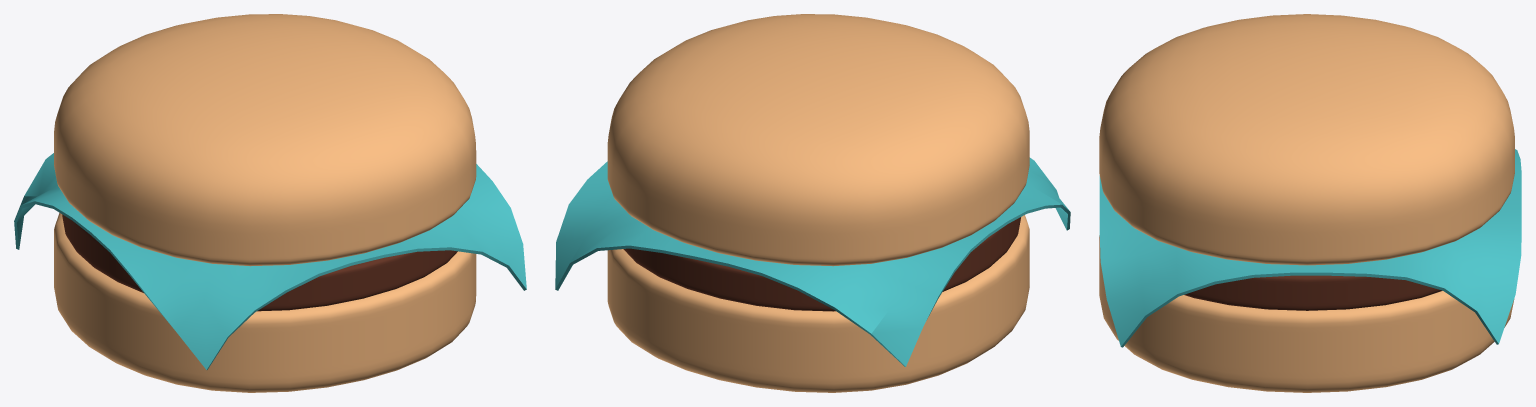
The model's file is Hamburger.glb.
3 renders of one model, left to right at view 1: azimuth 30°, elevation 25°; view 2: azimuth 150°, elevation 25°; view 3: azimuth 270°, elevation 25°, orthographic.
Parts seen in each view (by area): view 1: Top Bun, Bottom Bun, Cheese, Meat; view 2: Top Bun, Bottom Bun, Cheese, Meat; view 3: Top Bun, Bottom Bun, Cheese, Meat.
Part boxes in pixels (x1=…): Top Bun: x1=54, y1=14, x2=476, y2=266; Bottom Bun: x1=54, y1=213, x2=476, y2=392; Cheese: x1=14, y1=153, x2=526, y2=369; Meat: x1=62, y1=214, x2=457, y2=311; Top Bun: x1=607, y1=14, x2=1029, y2=266; Bottom Bun: x1=607, y1=215, x2=1029, y2=392; Cheese: x1=555, y1=157, x2=1070, y2=366; Meat: x1=623, y1=217, x2=1020, y2=311; Top Bun: x1=1099, y1=14, x2=1514, y2=265; Bottom Bun: x1=1099, y1=235, x2=1514, y2=392; Cheese: x1=1099, y1=149, x2=1521, y2=347; Meat: x1=1184, y1=275, x2=1442, y2=310.
Bounding box in the file's own units: 9.34 × 6.3 × 9.31.
